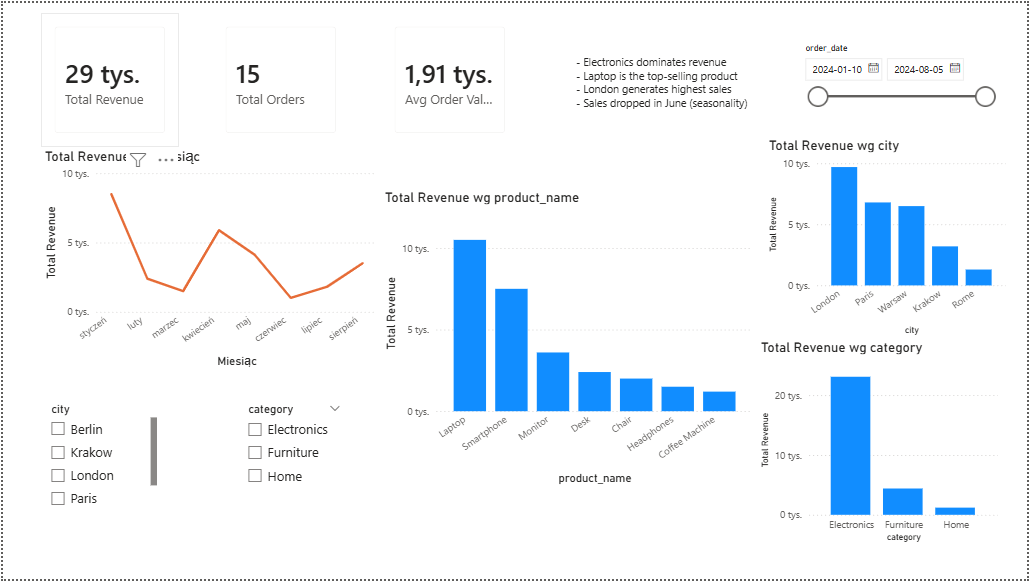

Layout of this report page (visuals, bound fields, positions):
{"tool":"powerbi","page":{"name":"Strona 1","canvas":[1280,720],"ordinal":0},"visuals":[{"type":"columnChart","fields":{"Category":["products.category"],"Y":["orders.Total Revenue"]},"box":[942.5,420,306.2,258.8],"z":0},{"type":"lineChart","fields":{"Category":["orders.order_date.Odmiana.Hierarchia dat.Miesiąc"],"Y":["orders.Total Revenue"]},"box":[47.5,180,425,280],"z":1000},{"type":"columnChart","fields":{"Category":["products.product_name"],"Y":["orders.Total Revenue"]},"box":[472.5,232.5,470,373.8],"z":2000},{"type":"columnChart","fields":{"Category":["customers.city"],"Y":["orders.Total Revenue"]},"box":[952.5,167.5,306.2,252.5],"z":3000},{"type":"cardVisual","fields":{"Data":["orders.Total Revenue"]},"box":[47.5,12.5,172.5,167.5],"z":4000},{"type":"cardVisual","fields":{"Data":["orders.Total Orders"]},"box":[261.2,12.5,172.5,167.5],"z":5000},{"type":"cardVisual","fields":{"Data":["orders.Avg Order Value"]},"box":[472.5,12.5,172.5,167.5],"z":6000},{"type":"slicer","fields":{"Values":["customers.city"]},"box":[47.5,495,150,150],"z":7000},{"type":"slicer","fields":{"Values":["products.category"]},"box":[293.8,495,140,150],"z":8000},{"type":"slicer","fields":{"Values":["orders.order_date"]},"box":[990,45,258.8,102.5],"z":9000},{"type":"textbox","box":[711.2,60,231.2,87.5],"z":10000}]}

Visuals, with their boxes in screenshot pixels (x1, y1, x2, y2), scaled from the page's 1280x720 canvas onto the 1030x585 screenshot:
columnChart - products.category x orders.Total Revenue: Rect(758, 341, 1005, 552)
lineChart - orders.order_date.Odmiana.Hierarchia dat.Miesiąc x orders.Total Revenue: Rect(38, 146, 380, 374)
columnChart - products.product_name x orders.Total Revenue: Rect(380, 189, 758, 493)
columnChart - customers.city x orders.Total Revenue: Rect(766, 136, 1013, 341)
cardVisual - orders.Total Revenue: Rect(38, 10, 177, 146)
cardVisual - orders.Total Orders: Rect(210, 10, 349, 146)
cardVisual - orders.Avg Order Value: Rect(380, 10, 519, 146)
slicer - customers.city: Rect(38, 402, 159, 524)
slicer - products.category: Rect(236, 402, 349, 524)
slicer - orders.order_date: Rect(797, 37, 1005, 120)
textbox: Rect(572, 49, 758, 120)
